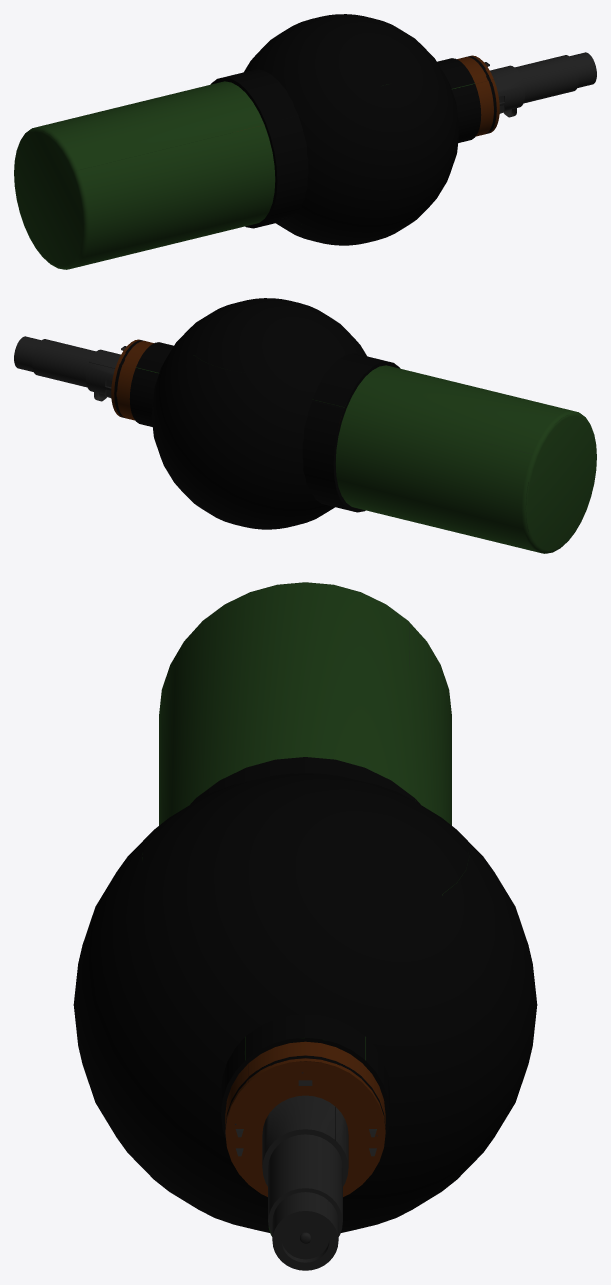
The model's file is ПТ-НИП_П.fbx.
The picture shows the model from 3 angles, top to bottom: view 1: azimuth 30°, elevation 25°; view 2: azimuth 150°, elevation 25°; view 3: azimuth 270°, elevation 25°; orthographic projection. The views are drawn at different scales.
Visible parts, largest first — view 1: НИП.001; view 2: НИП.001; view 3: НИП.001.
Part boxes in pixels (box(x1,y1,x2,y2)): НИП.001: box(14, 14, 596, 269); НИП.001: box(14, 298, 596, 553); НИП.001: box(73, 582, 537, 1270).
Bounding box in the file's own units: 281 × 104 × 104.
Materials: 1 (1 with a texture image).
